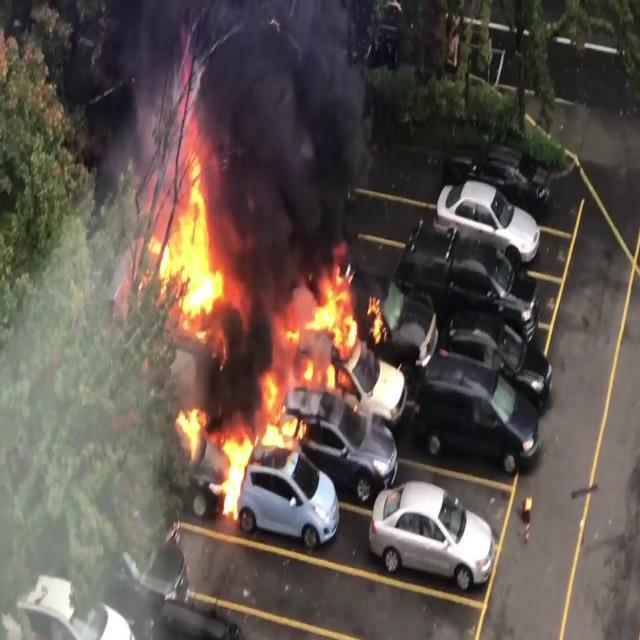Fire: (259, 264, 401, 446), (158, 114, 229, 343), (214, 433, 254, 527), (170, 404, 215, 468)
Smoke: (202, 0, 383, 291)
